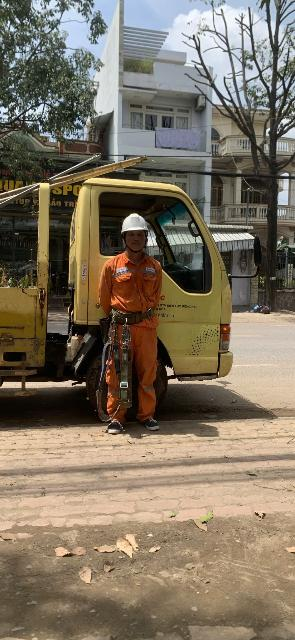harness: (105, 302, 161, 327)
helmet: (116, 206, 156, 241)
shoes: (105, 415, 128, 438), (141, 418, 163, 433)
